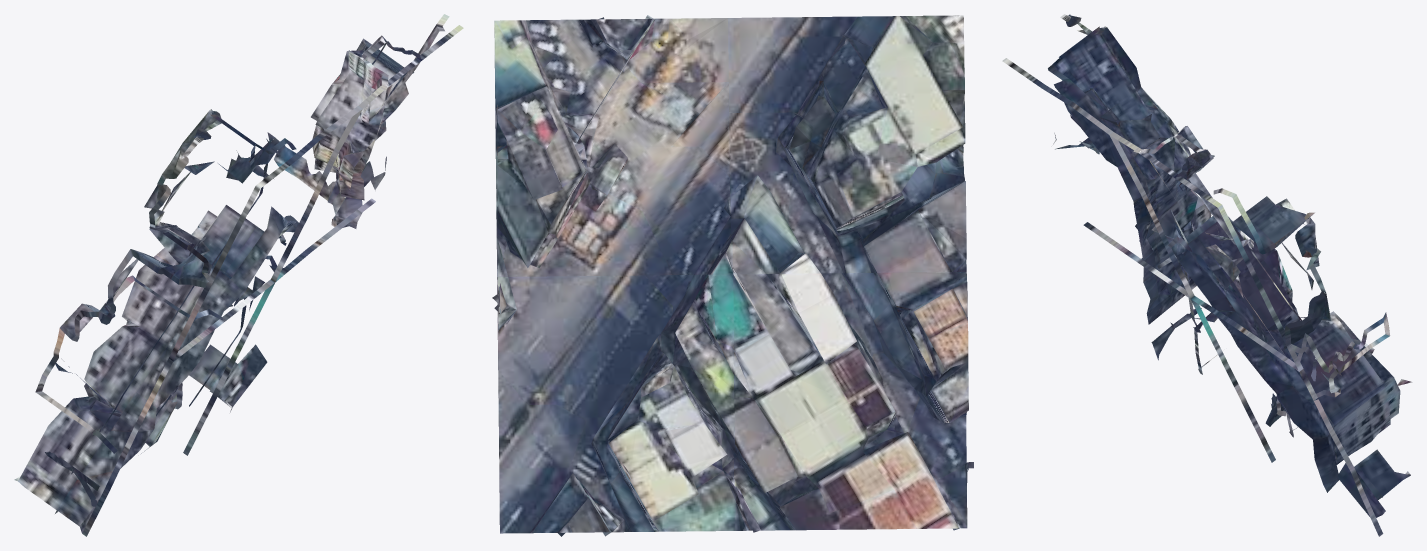
3 renders of one model, left to right at view 1: azimuth 30°, elevation 25°; view 2: azimuth 150°, elevation 25°; view 3: azimuth 270°, elevation 25°, orthographic. The views are drawn at different scales.
Bounding box in the file's own units: 81.91 × 75.88 × 69.38.
1 material, 1 textured.
